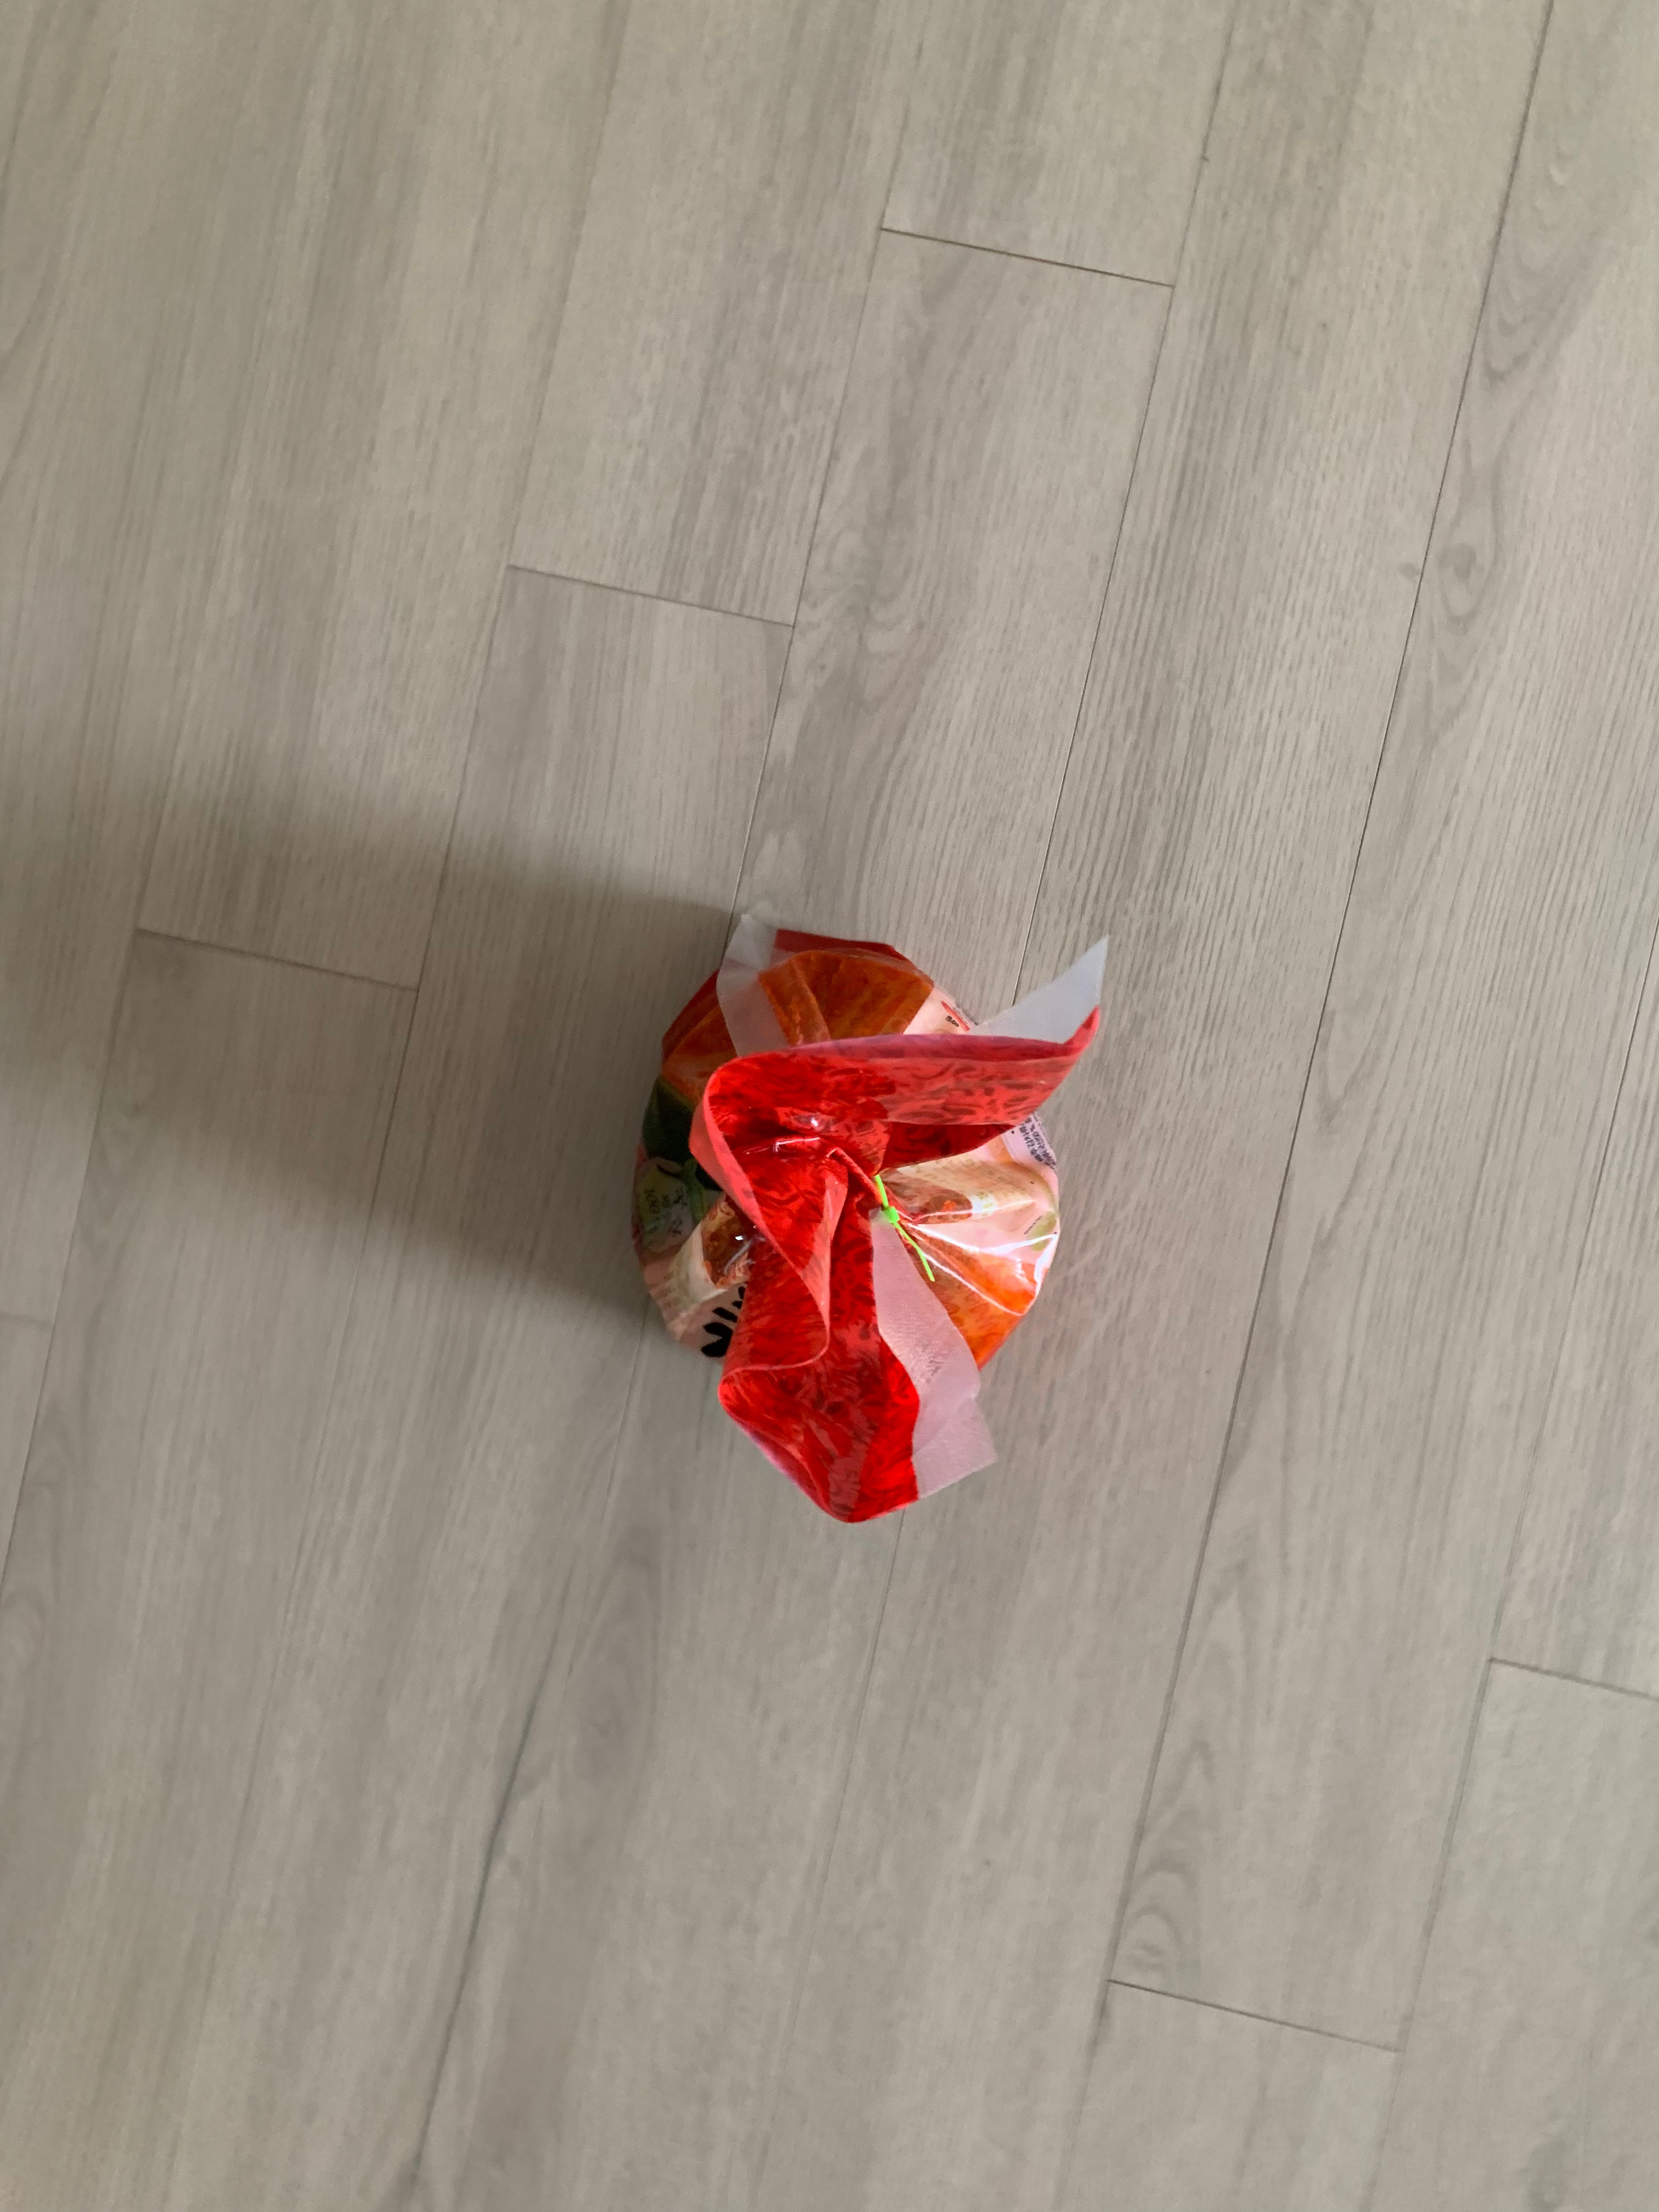kimchi: (629, 930, 1065, 1517)
